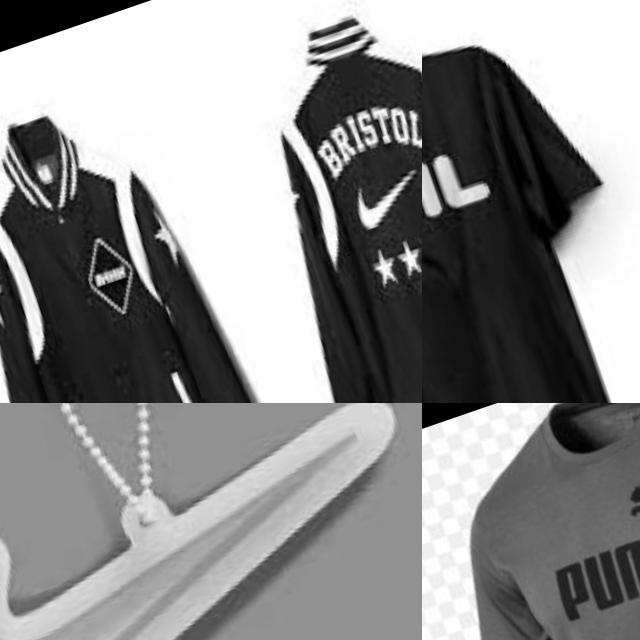FILA_fake: (422, 120, 502, 280)
NIKE_original: (0, 403, 422, 640), (341, 152, 422, 255)
PUMA_original: (524, 449, 640, 630)
